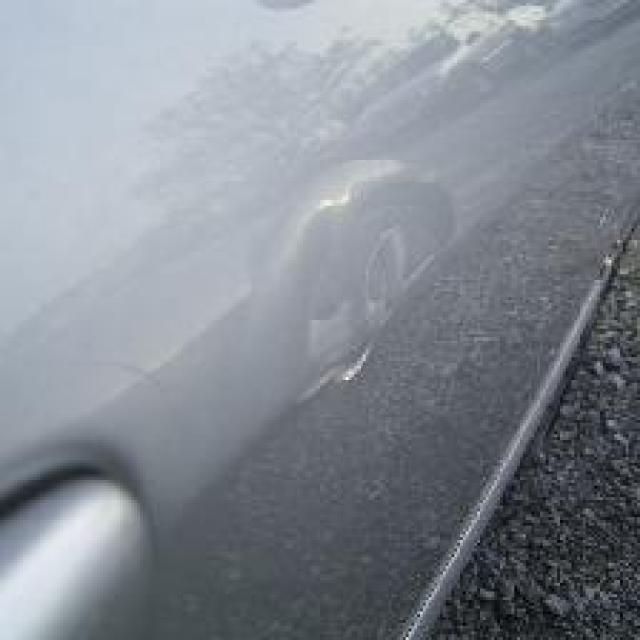damaged: (263, 157, 468, 417)
